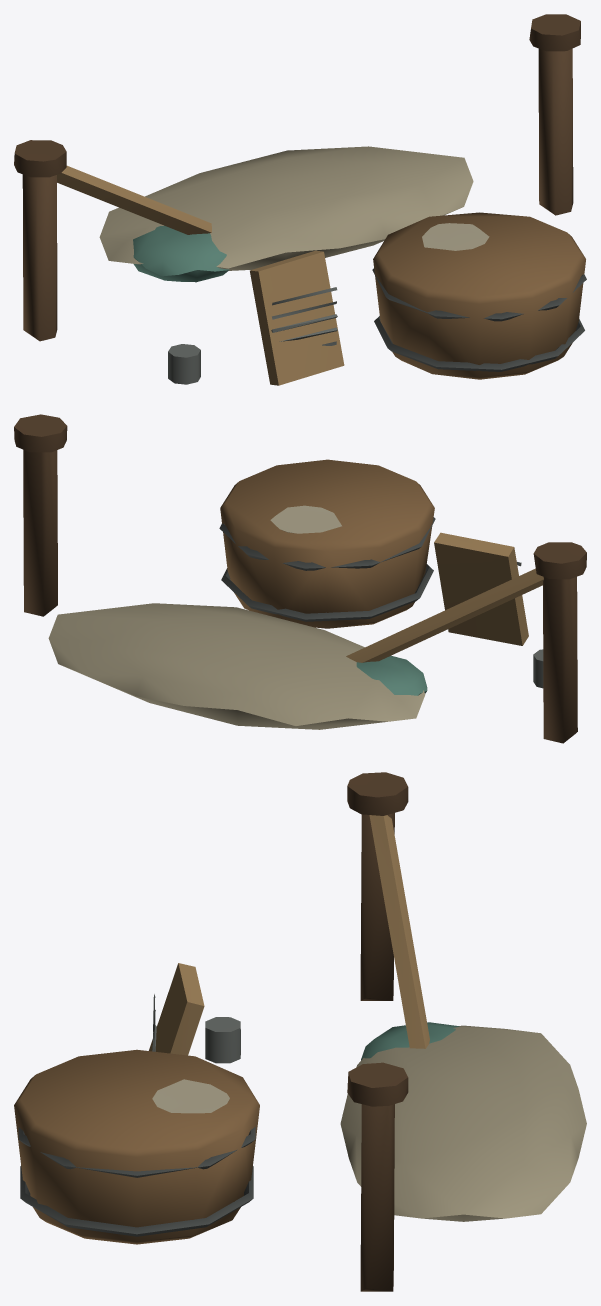
Rendered from washline_c_lod1.glb.
3 renders of one model, top to bottom at view 1: azimuth 30°, elevation 25°; view 2: azimuth 150°, elevation 25°; view 3: azimuth 270°, elevation 25°, orthographic. The views are drawn at different scales.
Parts seen in each view (by area): view 1: Surface.001; view 2: Surface.001; view 3: Surface.001.
Part boxes in pixels (box(x1,y1,x2,y2)): Surface.001: box(14, 14, 586, 385); Surface.001: box(14, 414, 586, 743); Surface.001: box(14, 772, 586, 1291).
Bounding box in the file's own units: 4.35 × 1.46 × 3.33.
